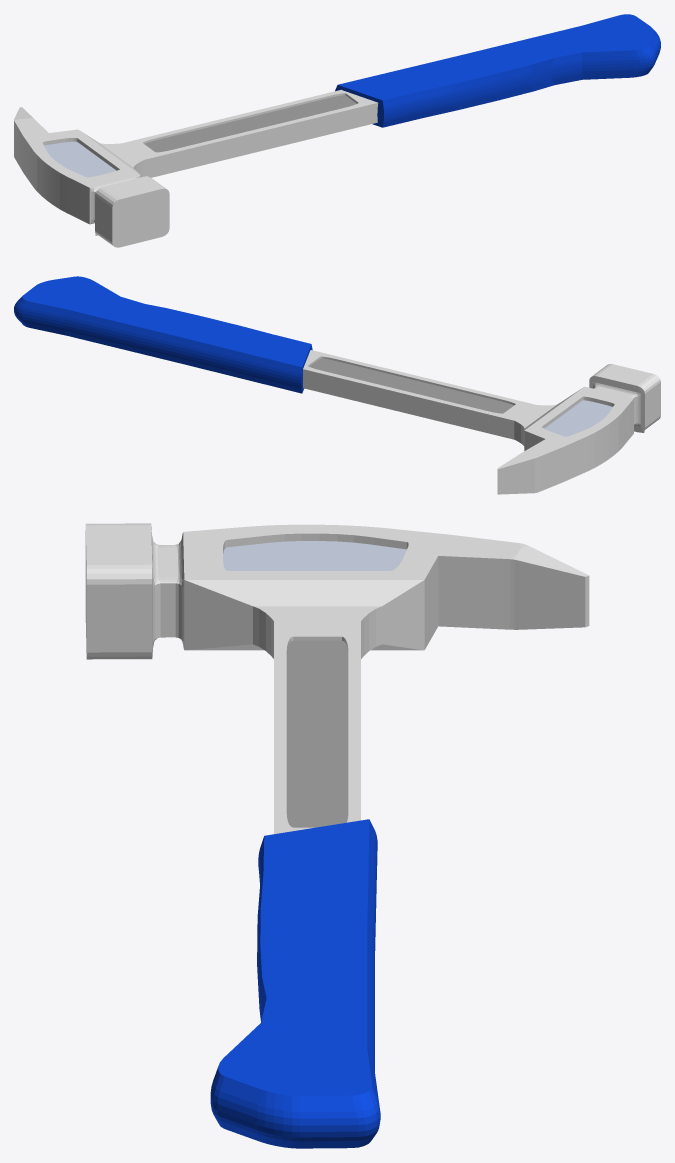
The model's file is Hammer.fbx.
3 renders of one model, top to bottom at view 1: azimuth 30°, elevation 25°; view 2: azimuth 150°, elevation 25°; view 3: azimuth 270°, elevation 25°, orthographic. The views are drawn at different scales.
Visible parts, largest first — view 1: Hammer; view 2: Hammer; view 3: Hammer.
Part boxes in pixels (x1,y1,x2,y2): Hammer: (14,14,660,247); Hammer: (14,276,660,494); Hammer: (85,523,589,1148).
Bounding box in the file's own units: 498 × 37.81 × 187.
